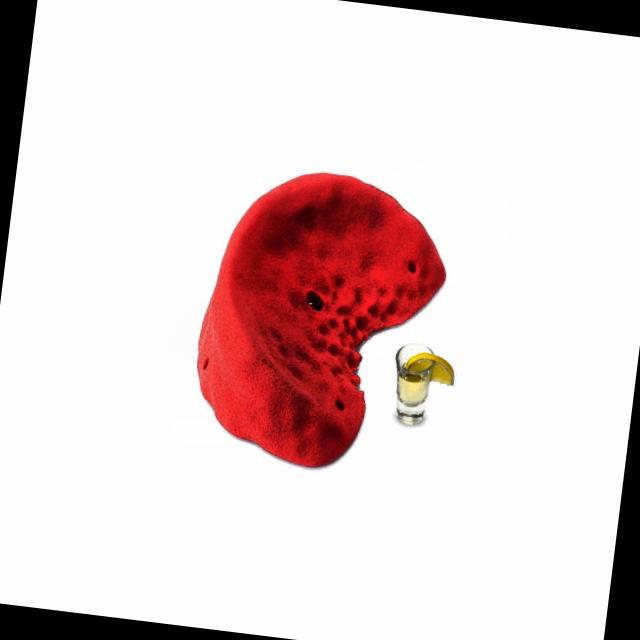Hold: (179, 156, 456, 480)
